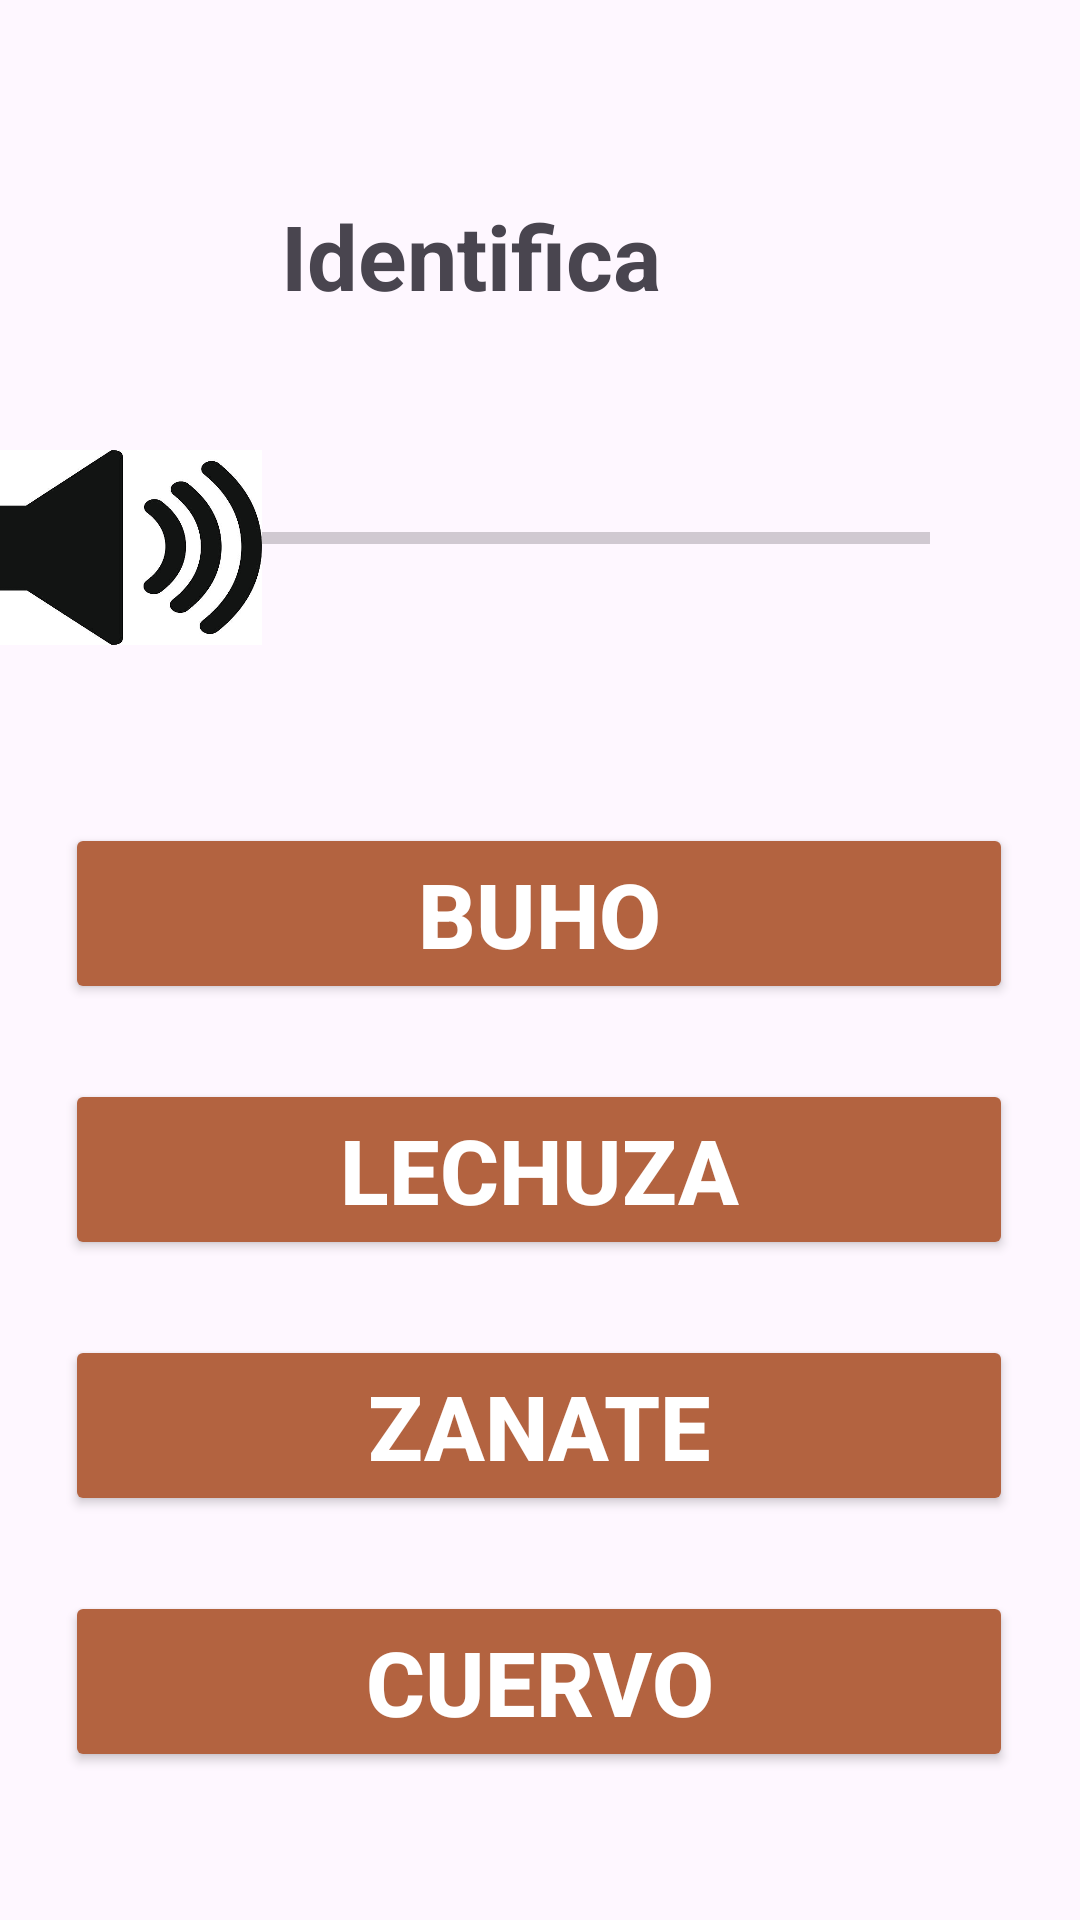

Icons on this 1080 x 1920 Android screen, each with the point to tap as [x,y]:
audio: [111,547]
